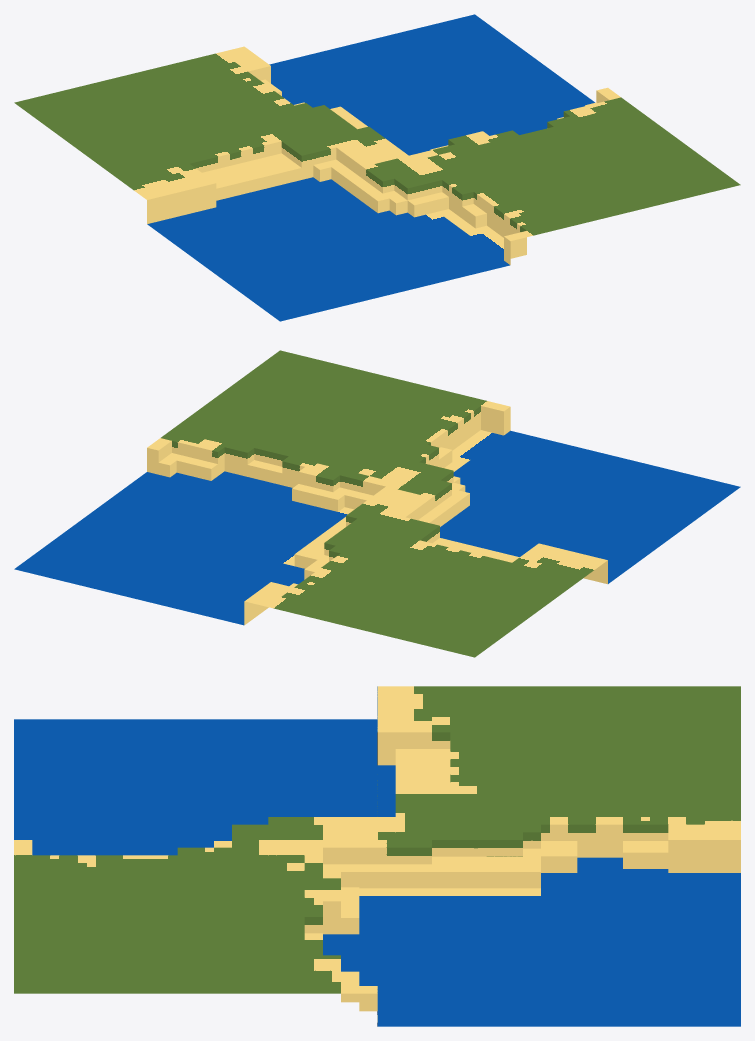
File: LWLW(2).glb
3 renders of one model, top to bottom at view 1: azimuth 30°, elevation 25°; view 2: azimuth 150°, elevation 25°; view 3: azimuth 270°, elevation 25°, orthographic. The views are drawn at different scales.
Visible parts, largest first — view 1: model_0.007; view 2: model_0.007; view 3: model_0.007.
Boxes of the visible parts, x1,y1,x2,y2 form: model_0.007: (14, 14, 740, 321); model_0.007: (14, 350, 740, 657); model_0.007: (14, 686, 740, 1026).
Size of the model in its own units: 80 by 4 by 80.
1 material, 1 textured.
